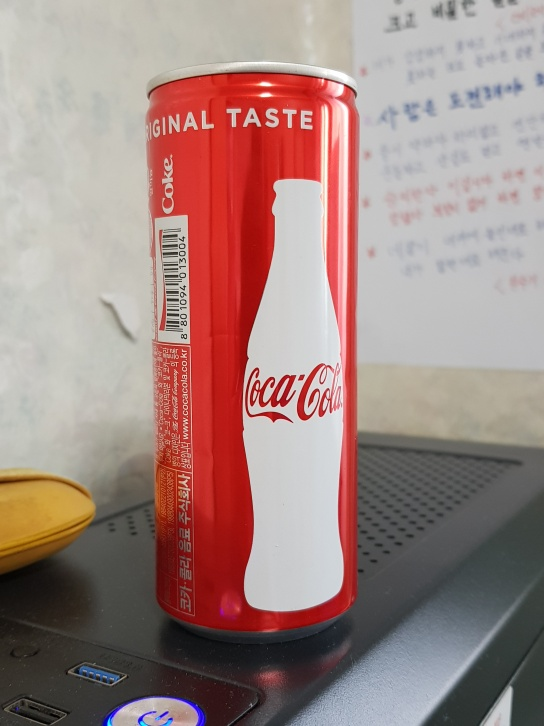Can: (142, 58, 366, 642)
